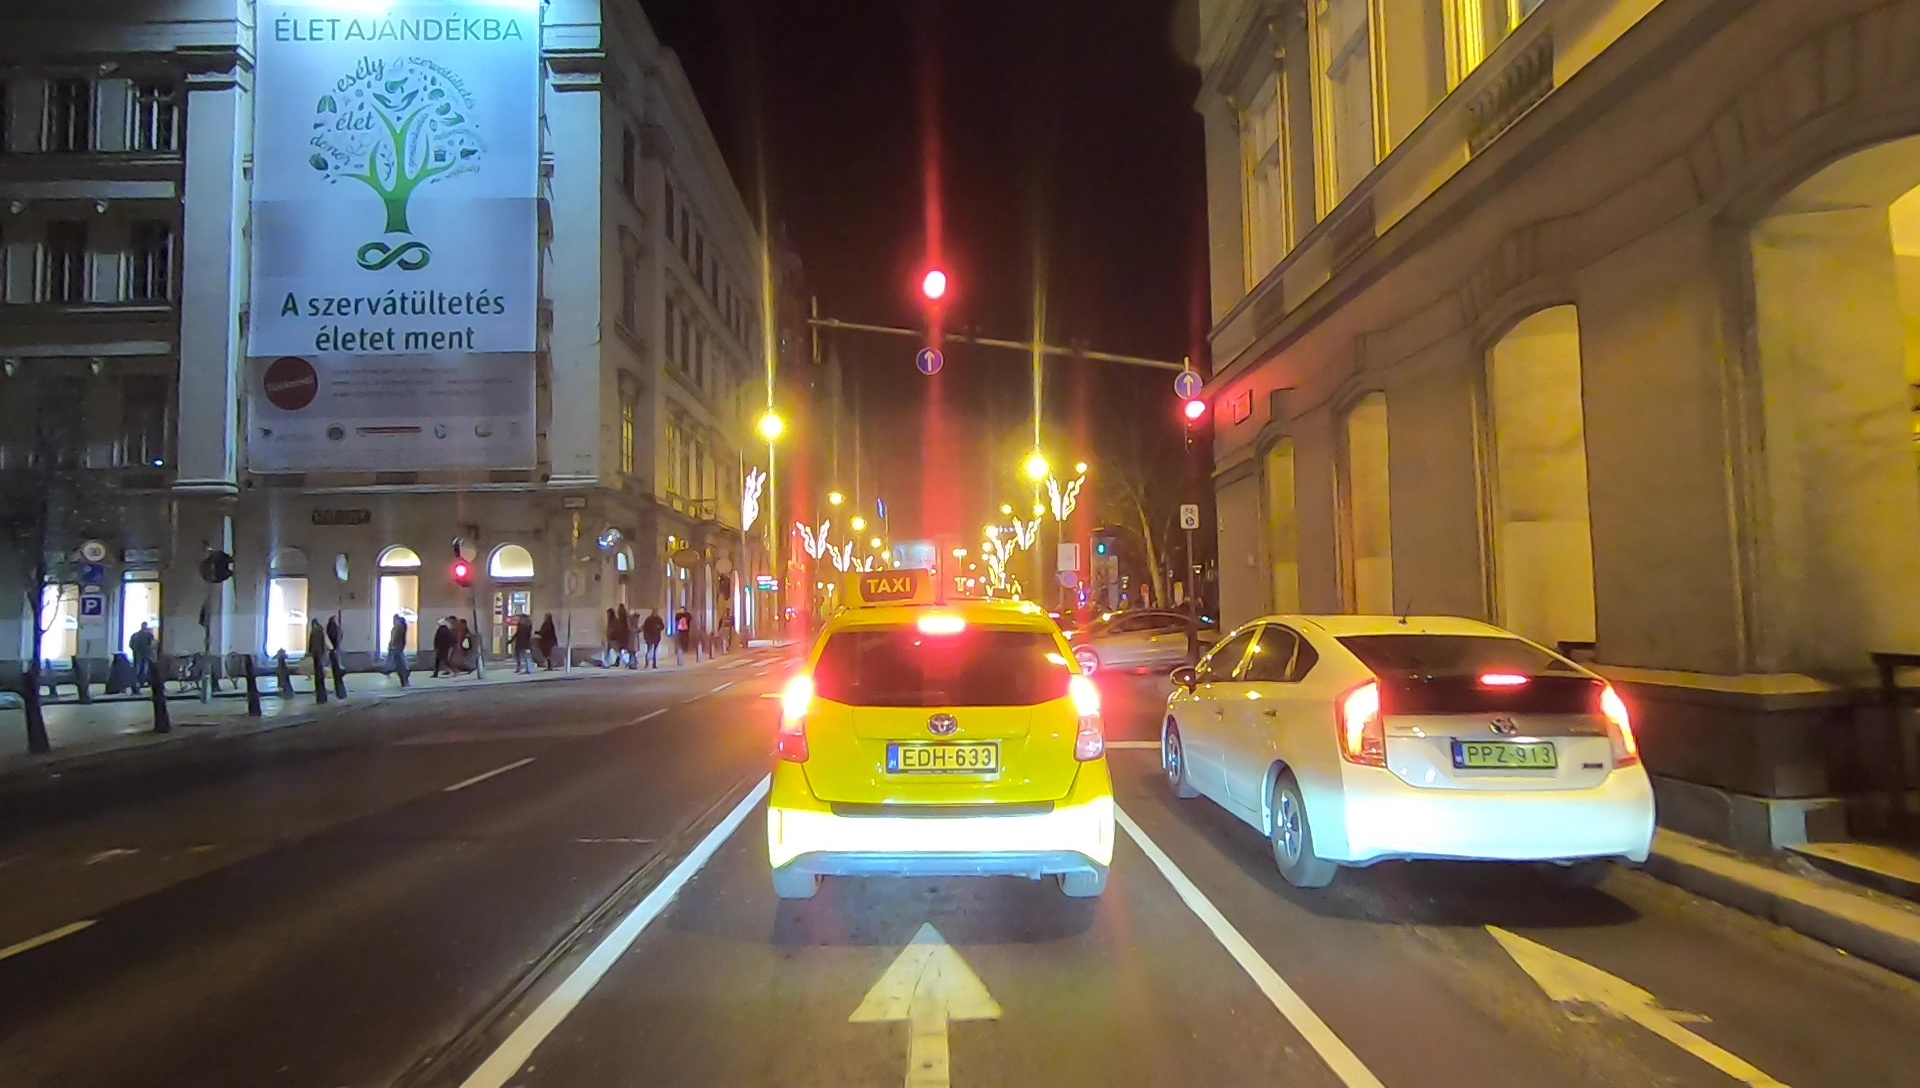person: (321, 615, 347, 684), (130, 621, 158, 686), (506, 611, 534, 671), (386, 617, 408, 689), (643, 608, 665, 673), (430, 619, 452, 678), (614, 602, 634, 665), (536, 610, 558, 665), (599, 606, 619, 665), (304, 619, 323, 680), (451, 617, 471, 673)
